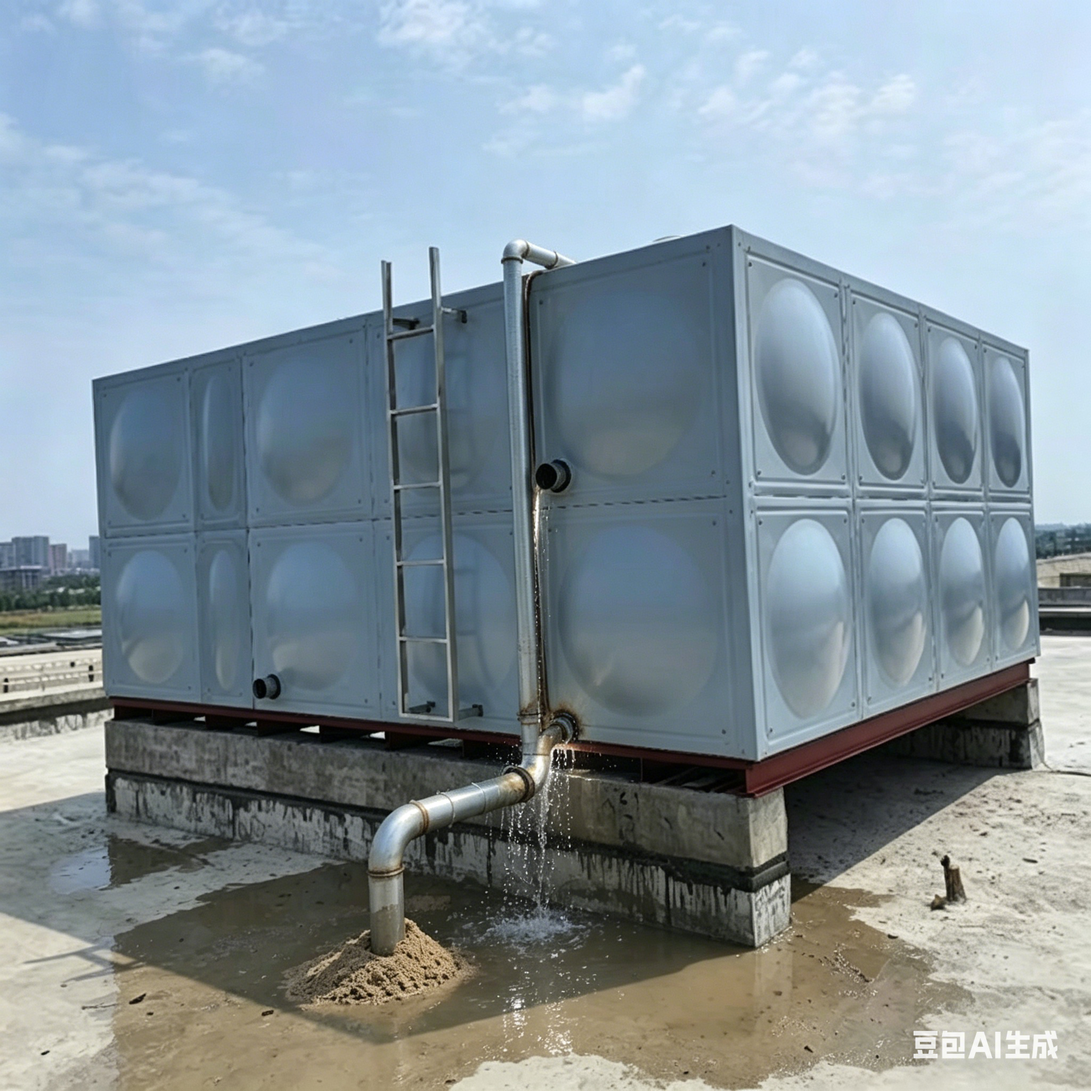Leakage: (628, 876, 975, 1081), (132, 917, 489, 1087), (503, 694, 616, 1041), (495, 411, 586, 638), (243, 860, 471, 911), (38, 838, 191, 886)
